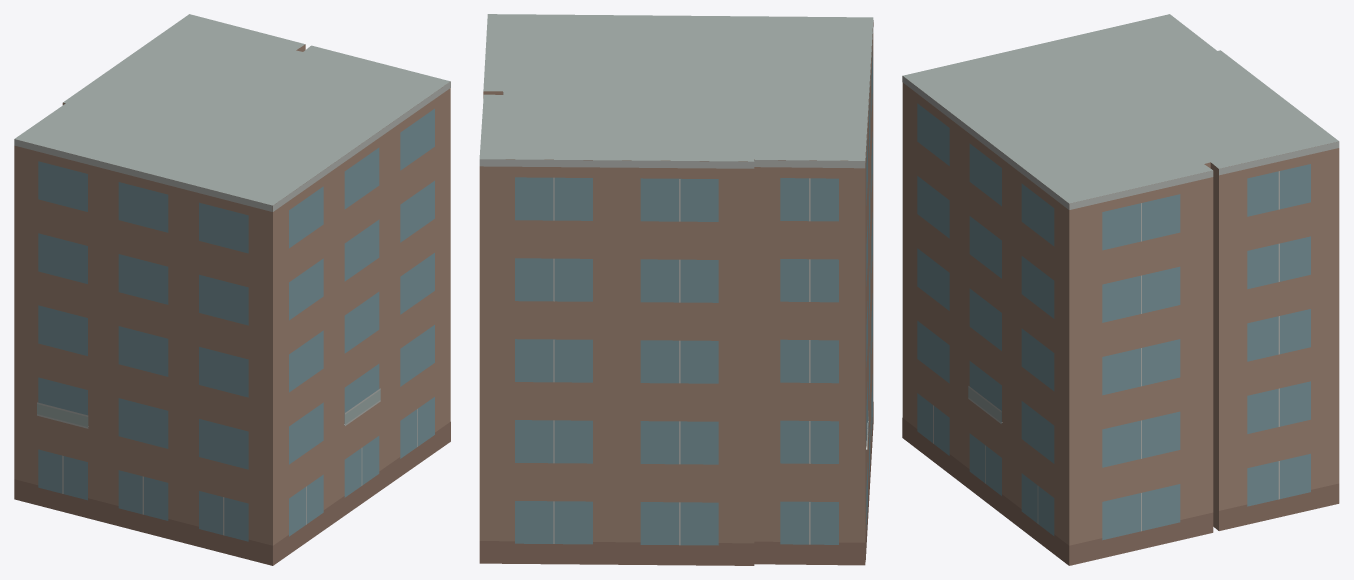
File: survey-upis-32833463.glb
3 views of the same model, side by side, from view 1: azimuth 30°, elevation 25°; view 2: azimuth 150°, elevation 25°; view 3: azimuth 270°, elevation 25° (orthographic). The views are drawn at different scales.
Parts seen in each view (by area): view 1: survey-upis-32833463.tmp; view 2: survey-upis-32833463.tmp; view 3: survey-upis-32833463.tmp.
Part boxes in pixels (bbox=[...]): survey-upis-32833463.tmp: bbox=[14, 14, 450, 565]; survey-upis-32833463.tmp: bbox=[479, 14, 873, 565]; survey-upis-32833463.tmp: bbox=[902, 14, 1339, 565].
Size of the model in its own units: 15.16 by 13.5 by 14.76.
